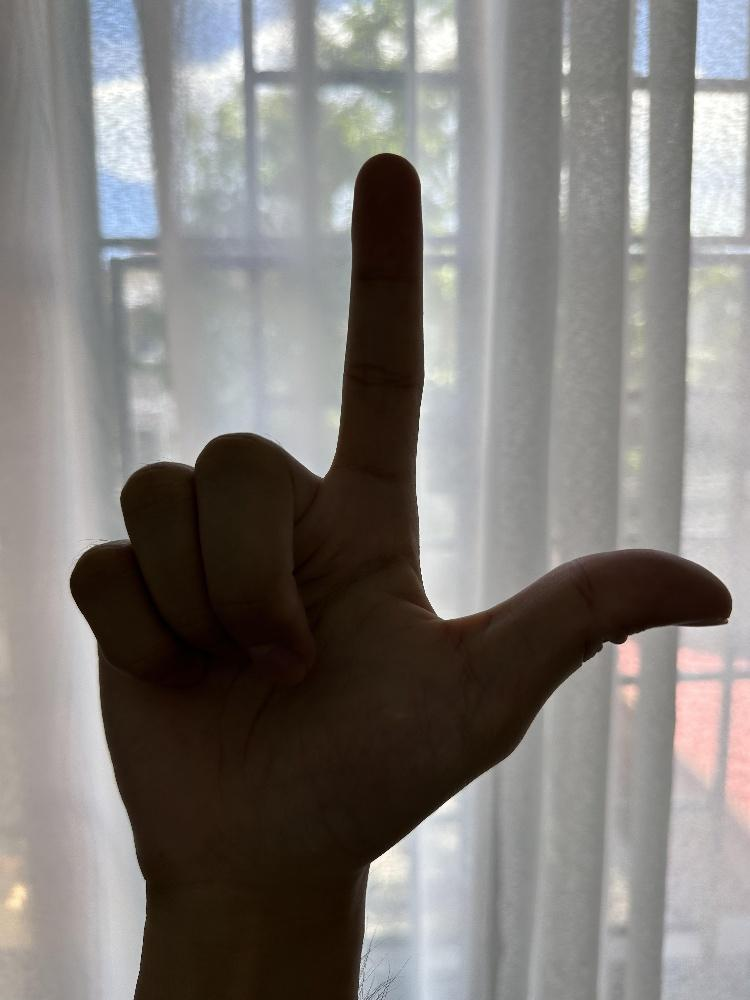l: (64, 148, 735, 888)
